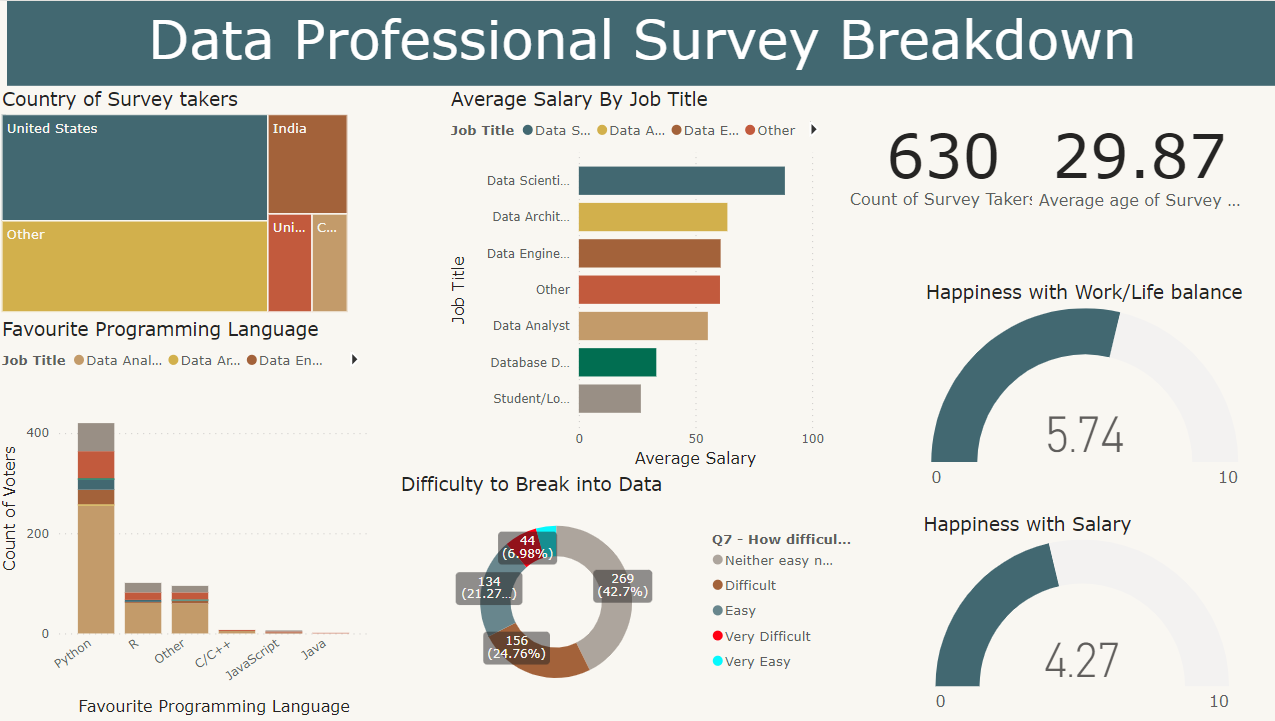

Layout of this report page (visuals, bound fields, positions):
{"tool":"powerbi","page":{"name":"Page 1","canvas":[1280,720],"ordinal":0},"visuals":[{"type":"textbox","box":[9.6,0,1271,85],"z":0},{"type":"card","fields":{"Values":["Count(Data Professional Survey (2).Unique ID)"]},"box":[840.8,85.3,210.9,151.1],"z":1000},{"type":"card","fields":{"Values":["Avg(Data Professional Survey (2).Q10 - Current Age)"]},"box":[1035.3,86.8,215.4,149.6],"z":2000},{"type":"barChart","title":"Average Salary By Job Title","fields":{"Category":["Data Professional Survey (2).Q1 - Which Title Best Fits your Current Role?.1"],"Y":["Avg(Data Professional Survey (2).Average Salary)"],"Series":["Data Professional Survey (2).Q1 - Which Title Best Fits your Current Role?.1"]},"box":[448.3,86.7,383.3,385],"z":3000},{"type":"columnChart","title":"Favourite Programming Language","fields":{"Category":["Data Professional Survey (2).Q5 - Favorite Programming Language.1"],"Y":["CountNonNull(Data Professional Survey (2).Unique ID)"],"Series":["Data Professional Survey (2).Q1 - Which Title Best Fits your Current Role?.1"]},"box":[0,316.7,376.7,403.3],"z":4000},{"type":"treemap","title":"Country of Survey takers","fields":{"Group":["Data Professional Survey (2).Q11 - Which Country do you live in?.1"],"Values":["CountNonNull(Data Professional Survey (2).Q11 - Which Country do you live in?.1)"]},"box":[0,86.7,355,230],"z":5000},{"type":"gauge","title":"Happiness with Work/Life balance","fields":{"Y":["Avg(Data Professional Survey (2).Q6 - How Happy are you in your Current Position with the following? (Work/Life Balance)"],"MinValue":["Min(Data Professional Survey (2).Q6 - How Happy are you in your Current Position with the following? (Work/Life Balance)"],"MaxValue":["Max(Data Professional Survey (2).Q6 - How Happy are you in your Current Position with the following? (Work/Life Balance)"]},"box":[923.3,280,328.3,215],"z":6000},{"type":"gauge","title":"Happiness with Salary","fields":{"Y":["Avg(Data Professional Survey (2).Q6 - How Happy are you in your Current Position with the following? (Salary))"],"MinValue":["Min(Data Professional Survey (2).Q6 - How Happy are you in your Current Position with the following? (Salary))"],"MaxValue":["Max(Data Professional Survey (2).Q6 - How Happy are you in your Current Position with the following? (Salary))"]},"box":[921.7,511.7,328.3,208.3],"z":7000},{"type":"donutChart","title":"Difficulty to Break into Data","fields":{"Category":["Data Professional Survey (2).Q7 - How difficult was it for you to break into Data?"],"Y":["CountNonNull(Data Professional Survey (2).Q7 - How difficult was it for you to break into Data?)"]},"box":[398.3,471.7,455,236.7],"z":8000}]}

Visuals, with their boxes in screenshot pixels (x1, y1, x2, y2), scaled from the page's 1280x720 canvas onto the 1275x721 screenshot:
textbox: [10,0,1274,85]
card - Count(Data Professional Survey (2).Unique ID): [838,85,1048,237]
card - Avg(Data Professional Survey (2).Q10 - Current Age): [1031,87,1246,237]
"Average Salary By Job Title" barChart: [447,87,828,472]
"Favourite Programming Language" columnChart: [0,317,375,720]
"Country of Survey takers" treemap: [0,87,354,317]
"Happiness with Work/Life balance" gauge: [920,280,1247,496]
"Happiness with Salary" gauge: [918,512,1245,720]
"Difficulty to Break into Data" donutChart: [397,472,850,709]
